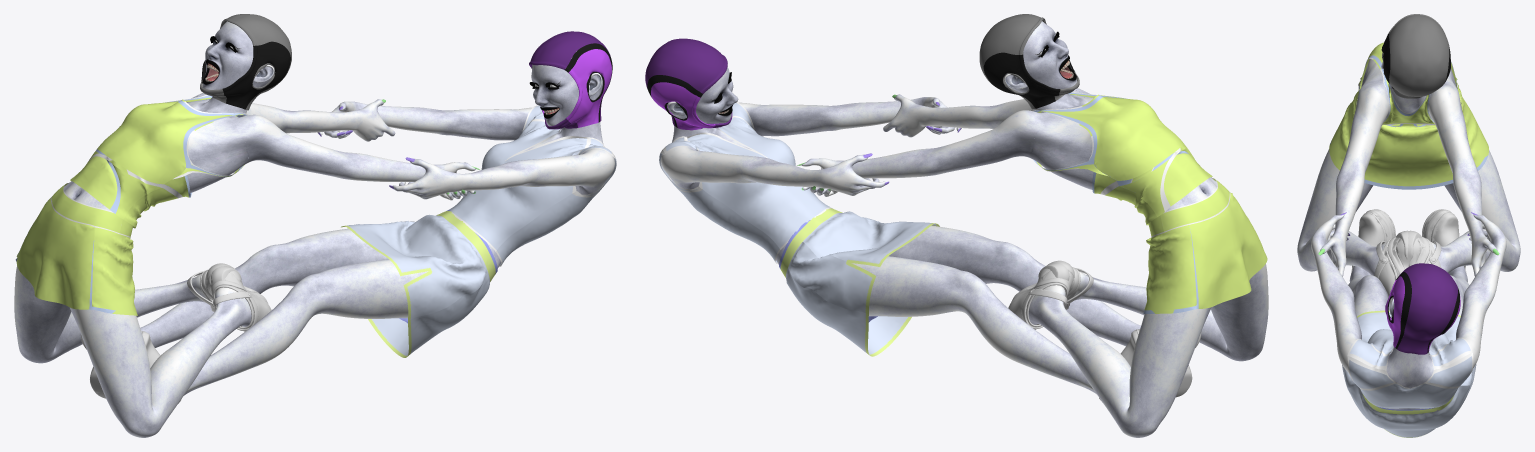
Rendered from Avatar_NB_draco.glb.
3 renders of one model, left to right at view 1: azimuth 30°, elevation 25°; view 2: azimuth 150°, elevation 25°; view 3: azimuth 270°, elevation 25°, orthographic. The views are drawn at different scales.
Visible parts, largest first — view 1: Genesis9, Garment_NB_1, Garment_NB_2btm, Garment_NB_2top, Hood, Hood2; view 2: Genesis9, Garment_NB_1, Garment_NB_2btm, Garment_NB_2top, Hood, Hood2; view 3: Genesis9, Garment_NB_1, Garment_NB_2top, Hood, Hood2, Garment_NB_2btm.
Part boxes in pixels (x1,y1,x2,y2): Genesis9: (14,21,614,437); Garment_NB_1: (15,94,248,315); Garment_NB_2btm: (341,209,497,357); Garment_NB_2top: (449,105,616,266); Hood: (201,31,612,129); Hood2: (200,14,291,110); Genesis9: (661,21,1268,437); Garment_NB_1: (1031,91,1267,313); Garment_NB_2btm: (779,208,939,356); Garment_NB_2top: (659,102,831,263); Hood: (645,38,1074,130); Hood2: (979,14,1079,109); Genesis9: (1297,59,1520,411); Garment_NB_1: (1329,42,1488,189); Garment_NB_2top: (1347,329,1473,408); Hood: (1381,33,1460,354); Hood2: (1382,14,1449,98); Garment_NB_2btm: (1342,310,1476,437).
Size of the model in its own units: 168 by 102 by 59.09.
19 materials, 15 textured.
